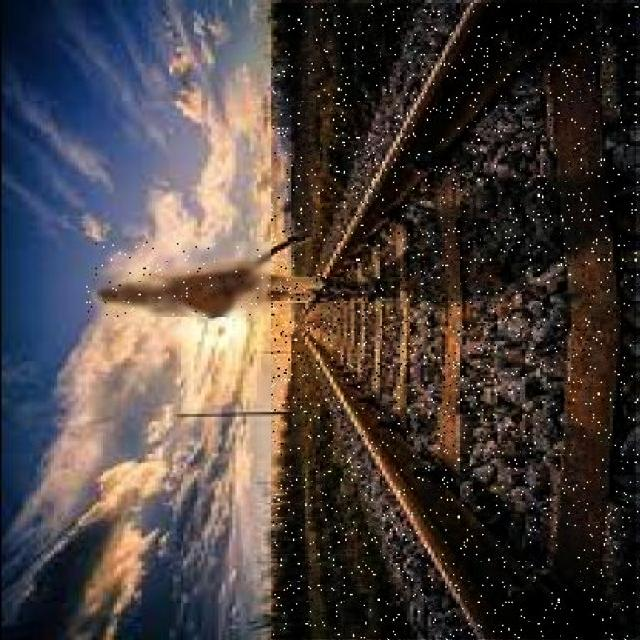rail: (273, 4, 637, 640)
